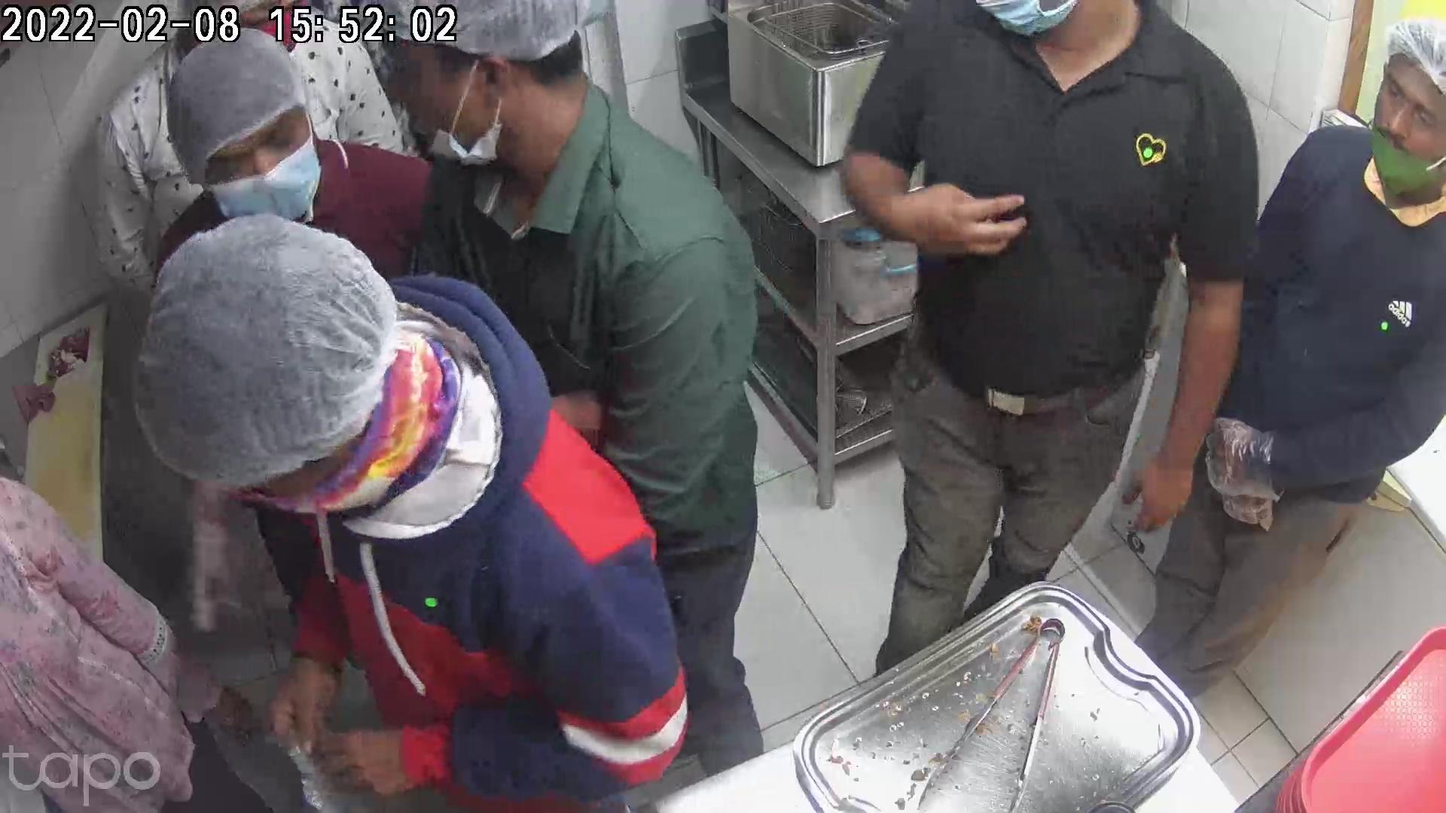no_gloves: (900, 190, 1028, 256), (1120, 445, 1201, 533)
